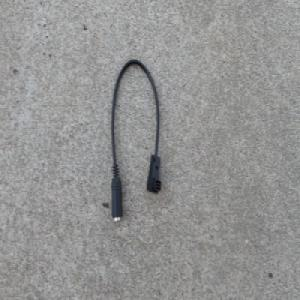Wire: (109, 56, 162, 224)
